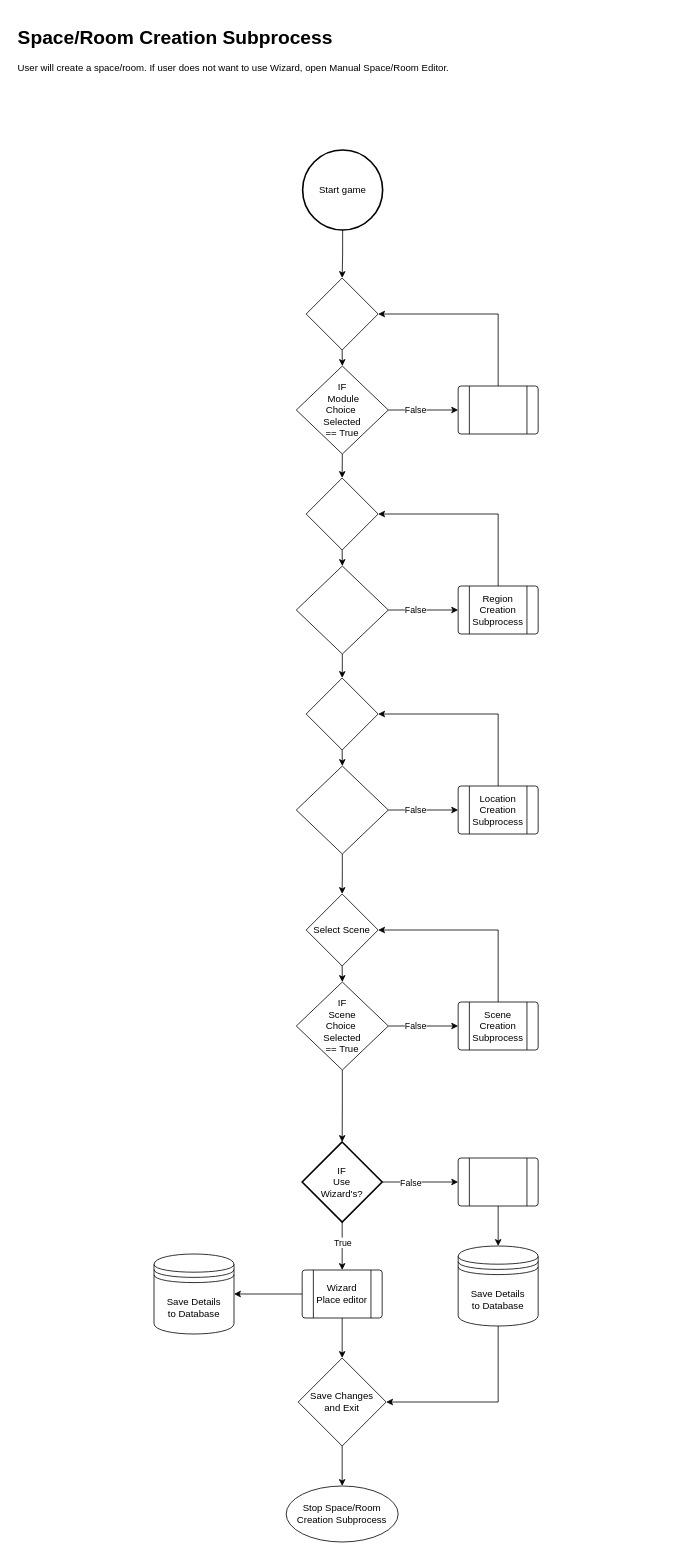
The diagram is 691 pixels wide and 1556 high, and some of its shapes have lost their labels. Here are the shapes that lost their labels. From the top down, the centre of each, then its label:
At (x=341, y=313): "Select Module".
At (x=497, y=409): "Module Creation Subprocess".
At (x=341, y=513): "Select Region".
At (x=342, y=609): "IF Region Choice Selected == True".
At (x=341, y=713): "Select Location".
At (x=342, y=809): "IF Location Choice Selected == True".
At (x=497, y=1181): "Manual Place editor".
